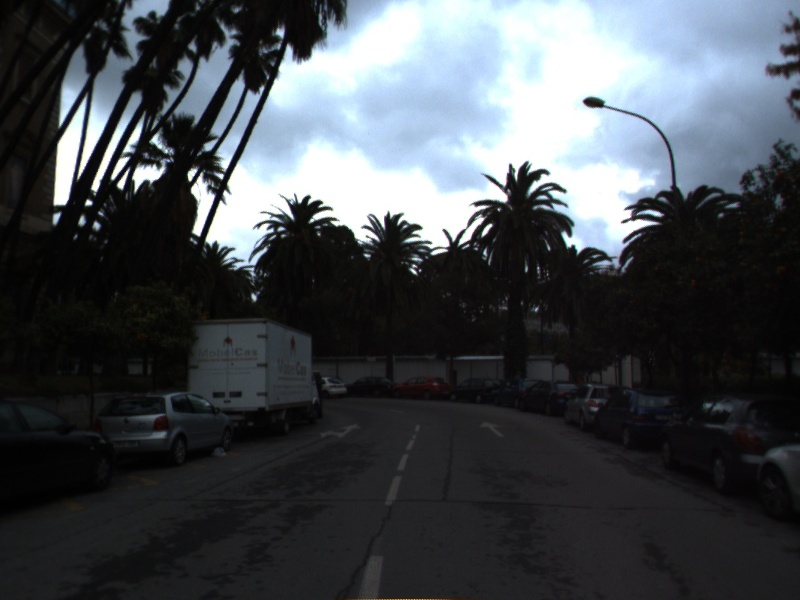STRAIGHT: (477, 419, 507, 439)
STRAIGHT_LEFT: (318, 421, 363, 440)
